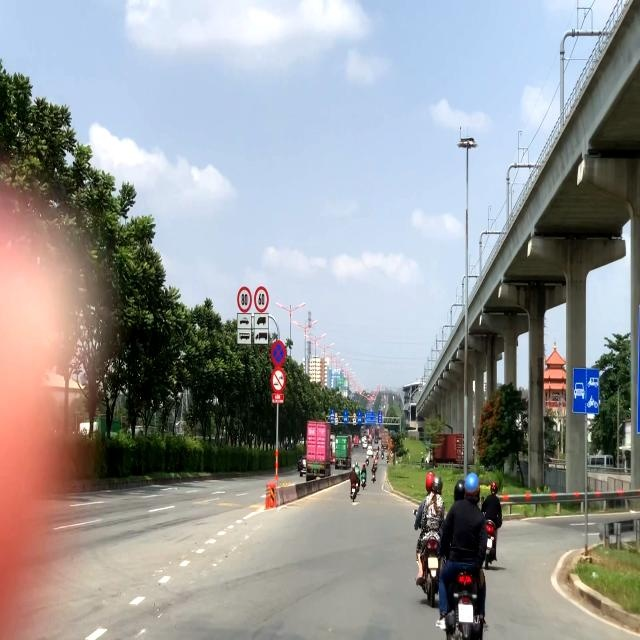bien_chi_dan: (270, 339, 286, 366), (254, 285, 269, 312), (238, 286, 252, 311)
